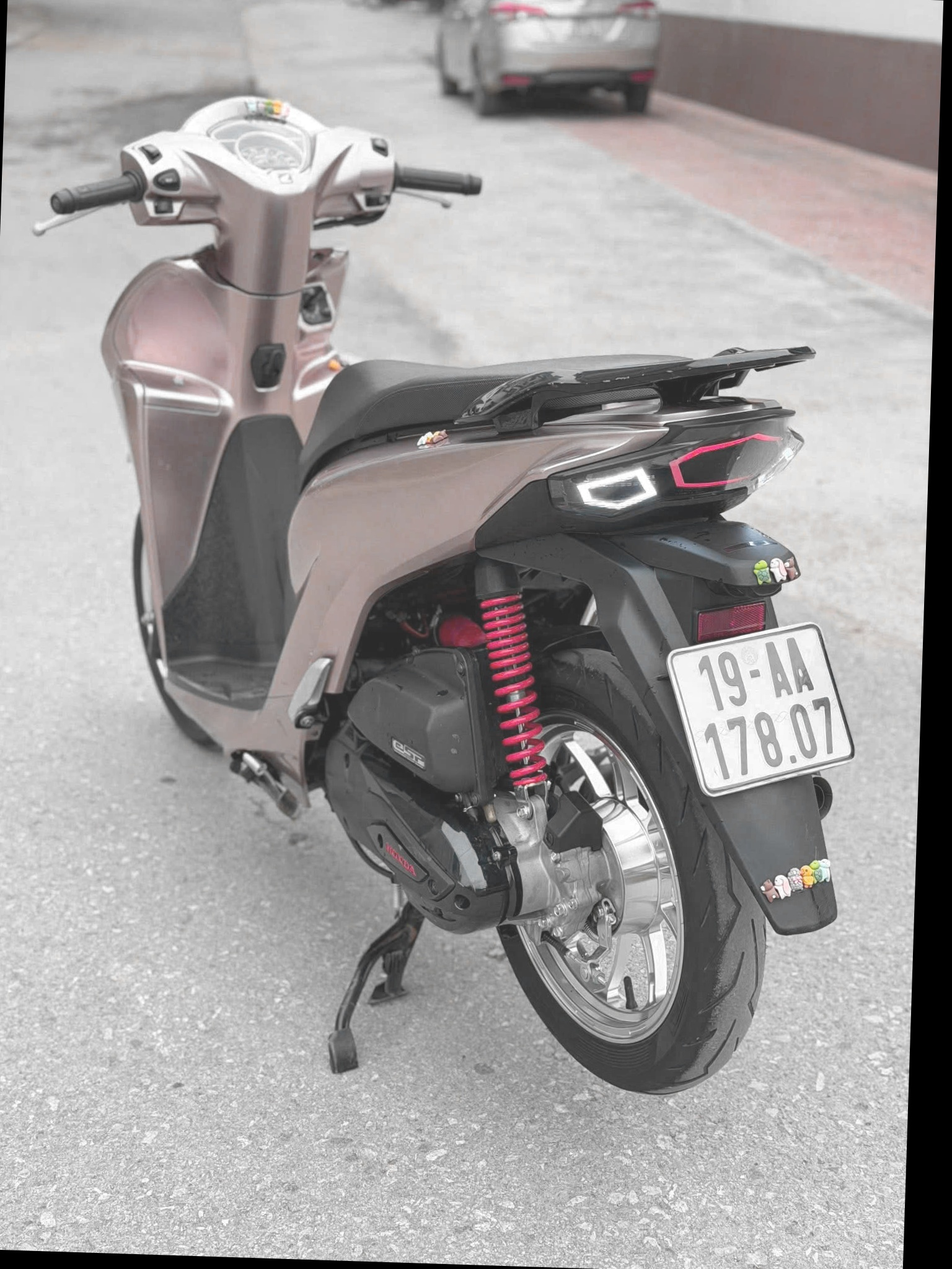Bien-so: (661, 608, 860, 800)
